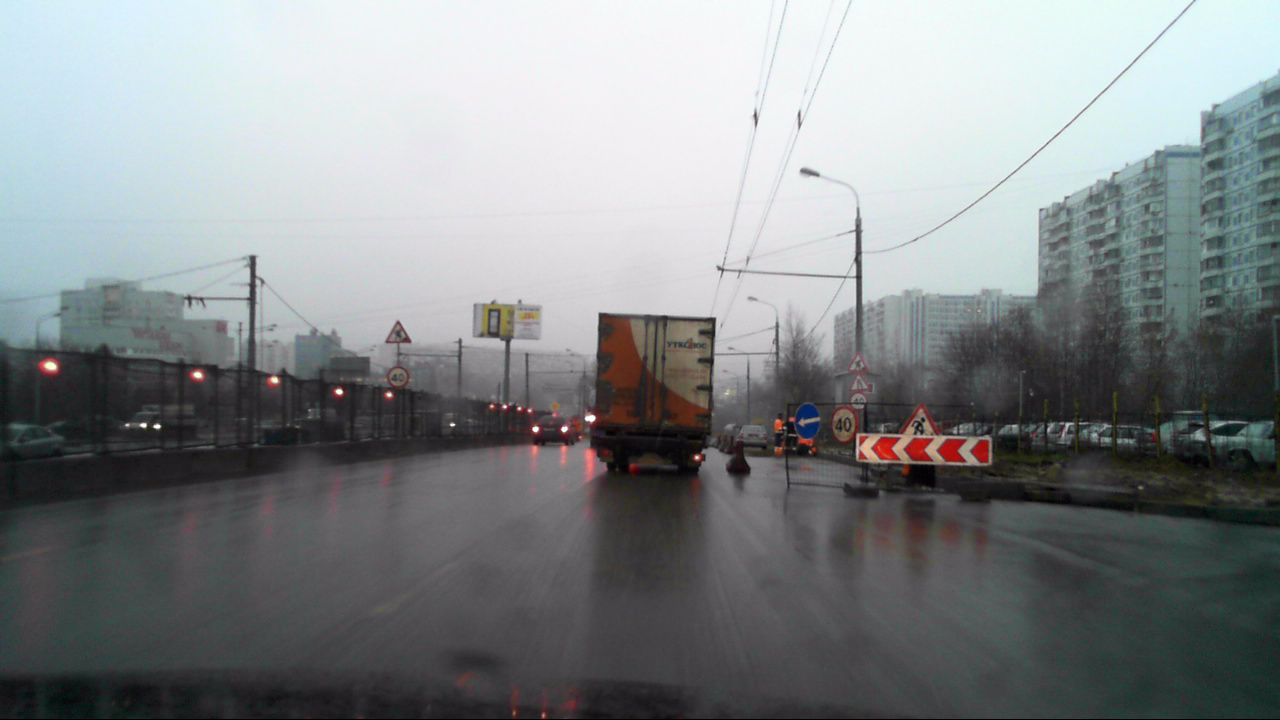Turn Left: (795, 402, 821, 438)
speed_warning_40: (850, 393, 866, 409)
